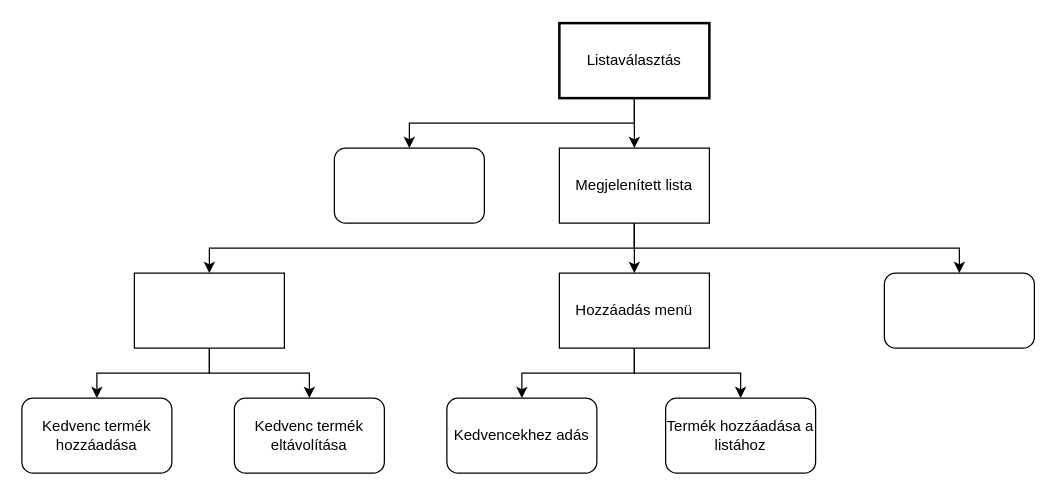
The diagram is 1056 pixels wide and 495 high, and some of its shapes have lost their labels. The shapes that lost their labels are listed below. From the top down, each one's centre as x and y in pixels, then its label:
the point at 408,185: Lista törlése
the point at 208,310: Kedvenc termékek menüje
the point at 958,310: Termék eltávolítása a listából
